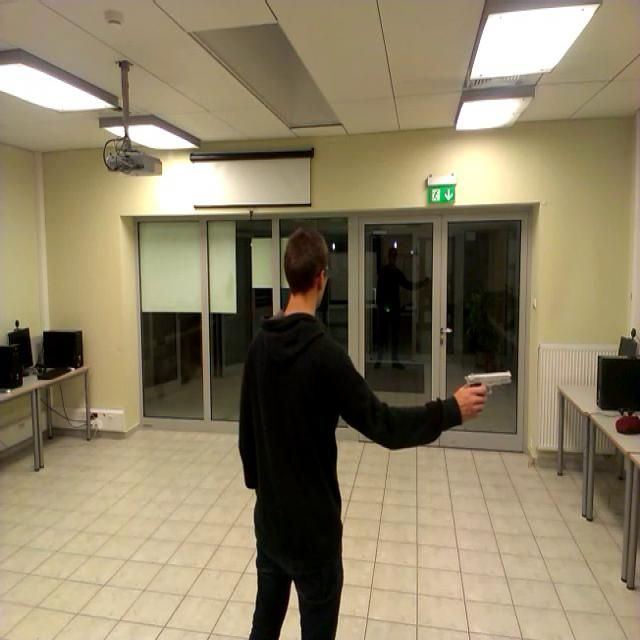handgun: (462, 359, 516, 417)
